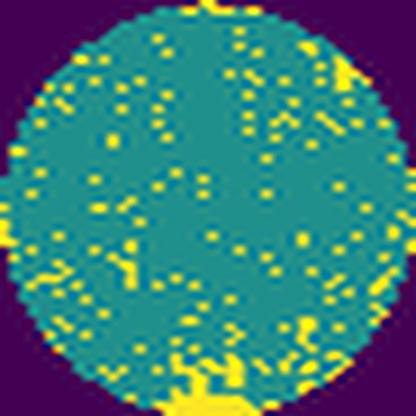Edge-Loc: (155, 384, 266, 416), (332, 42, 372, 96)
